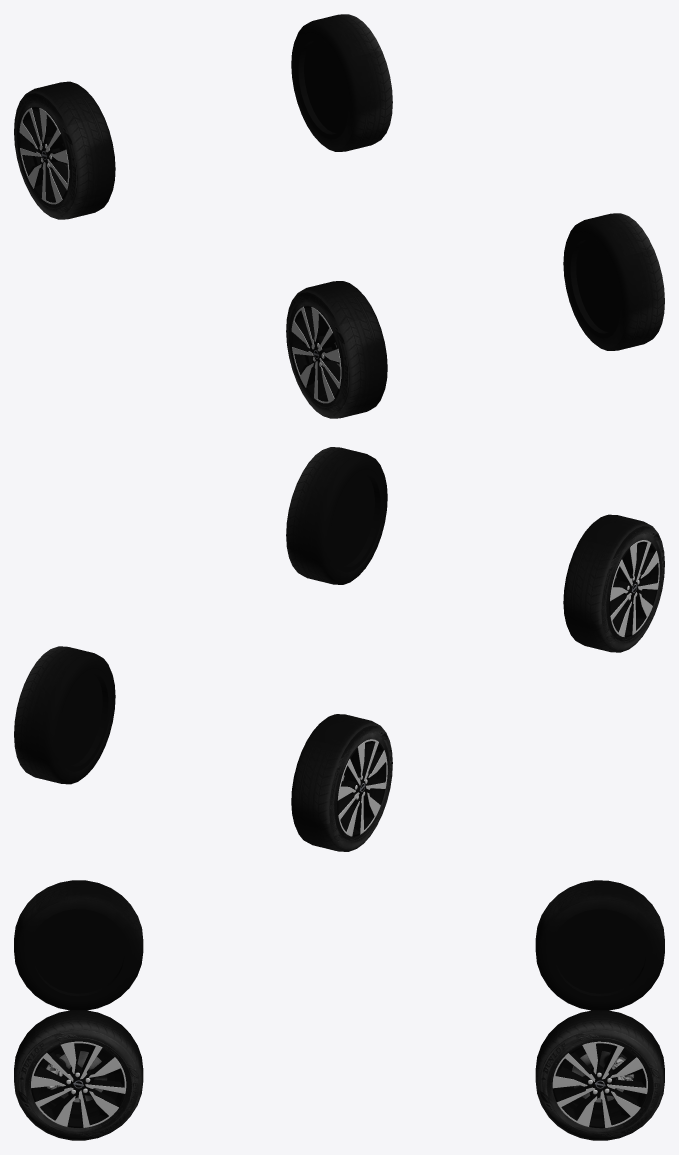
File: llantas.glb
The picture shows the model from 3 angles, top to bottom: view 1: azimuth 30°, elevation 25°; view 2: azimuth 150°, elevation 25°; view 3: azimuth 270°, elevation 25°; orthographic projection. The views are drawn at different scales.
Parts seen in each view (by area): view 1: polySurface1.001, polySurface1.002, polySurface1, aaa1:polySurface1, shachedie, pasted__polySurface39.001, pasted__polySurface39.002, pasted__polySurface35.002, pasted__polySurface35.001, sentra14_model_21:pasted__polySurface39, pasted__polySurface39; view 2: polySurface1.001, polySurface1.002, polySurface1, aaa1:polySurface1, shachedie, pasted__polySurface39.002, pasted__polySurface39.001, pasted__polySurface35.002, pasted__polySurface35.001, pasted__polySurface39, sentra14_model_21:pasted__polySurface39; view 3: shachedie, aaa1:polySurface1, polySurface1, polySurface1.002, polySurface1.001, sentra14_model_21:pasted__polySurface39, pasted__polySurface39, sentra14_model_21:pasted__polySurface35, pasted__polySurface35, pasted__polySurface39.002, pasted__polySurface39.001, pasted__pasted__pCylinder10 (+1 smaller).
Part boxes in pixels (<box>): polySurface1.001: <box>286,281,387,418</box>; polySurface1.002: <box>14,81,115,219</box>; polySurface1: <box>291,14,392,151</box>; aaa1:polySurface1: <box>563,213,664,350</box>; shachedie: <box>304,41,618,331</box>; pasted__polySurface39.001: <box>291,306,341,401</box>; pasted__polySurface39.002: <box>19,107,69,202</box>; pasted__polySurface35.002: <box>19,108,69,204</box>; pasted__polySurface35.001: <box>291,306,341,403</box>; sentra14_model_21:pasted__polySurface39: <box>568,235,620,338</box>; pasted__polySurface39: <box>295,36,348,139</box>; polySurface1.001: <box>563,514,664,652</box>; polySurface1.002: <box>291,714,392,851</box>; polySurface1: <box>14,646,115,784</box>; aaa1:polySurface1: <box>286,447,387,584</box>; shachedie: <box>60,474,374,765</box>; pasted__polySurface39.002: <box>337,739,386,836</box>; pasted__polySurface39.001: <box>609,540,658,637</box>; pasted__polySurface35.002: <box>337,739,387,836</box>; pasted__polySurface35.001: <box>610,540,659,636</box>; pasted__polySurface39: <box>58,668,110,771</box>; sentra14_model_21:pasted__polySurface39: <box>330,469,383,572</box>; shachedie: <box>33,913,645,1110</box>; aaa1:polySurface1: <box>14,1010,143,1140</box>; polySurface1: <box>535,1010,664,1140</box>; polySurface1.002: <box>535,880,664,1010</box>; polySurface1.001: <box>14,880,143,1010</box>; sentra14_model_21:pasted__polySurface39: <box>31,1041,124,1127</box>; pasted__polySurface39: <box>553,1041,646,1128</box>; sentra14_model_21:pasted__polySurface35: <box>31,1041,126,1127</box>; pasted__polySurface35: <box>552,1041,647,1127</box>; pasted__polySurface39.002: <box>549,909,650,1000</box>; pasted__polySurface39.001: <box>28,909,129,1000</box>; pasted__pasted__pCylinder10: <box>59,1050,107,1102</box>.
Bounding box in the file's own units: 1.93 × 0.7045 × 3.56.
5 materials, 2 textured.
